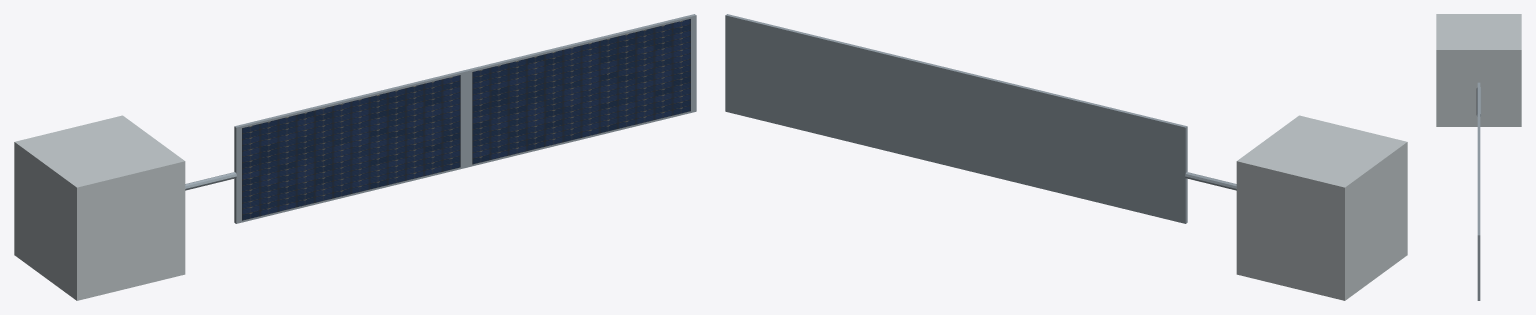
File: ref-the-arab-satellite-813-66994.glb
3 views of the same model, side by side, from view 1: azimuth 30°, elevation 25°; view 2: azimuth 150°, elevation 25°; view 3: azimuth 270°, elevation 25° (orthographic). The views are drawn at different scales.
Parts seen in each view (by area): view 1: Photovoltaic laminates (×2), Spacecraft body, Array frame (×2); view 2: Array frame (×2), Spacecraft body; view 3: Spacecraft body, Array frame (×2), Solar array drive.
Boxes of the visible parts, left/top/right/bottom form: Photovoltaic laminates (×2): left=242, top=19, right=690, bottom=220; Spacecraft body: left=14, top=115, right=185, bottom=300; Array frame (×2): left=234, top=14, right=696, bottom=223; Array frame (×2): left=725, top=14, right=1187, bottom=223; Spacecraft body: left=1236, top=115, right=1407, bottom=300; Spacecraft body: left=1436, top=14, right=1521, bottom=126; Array frame (×2): left=1477, top=82, right=1480, bottom=300; Solar array drive: left=1476, top=87, right=1481, bottom=116.
Bounding box in the file's own units: 6 × 1 × 1.
Materials: 3 (1 with a texture image).
